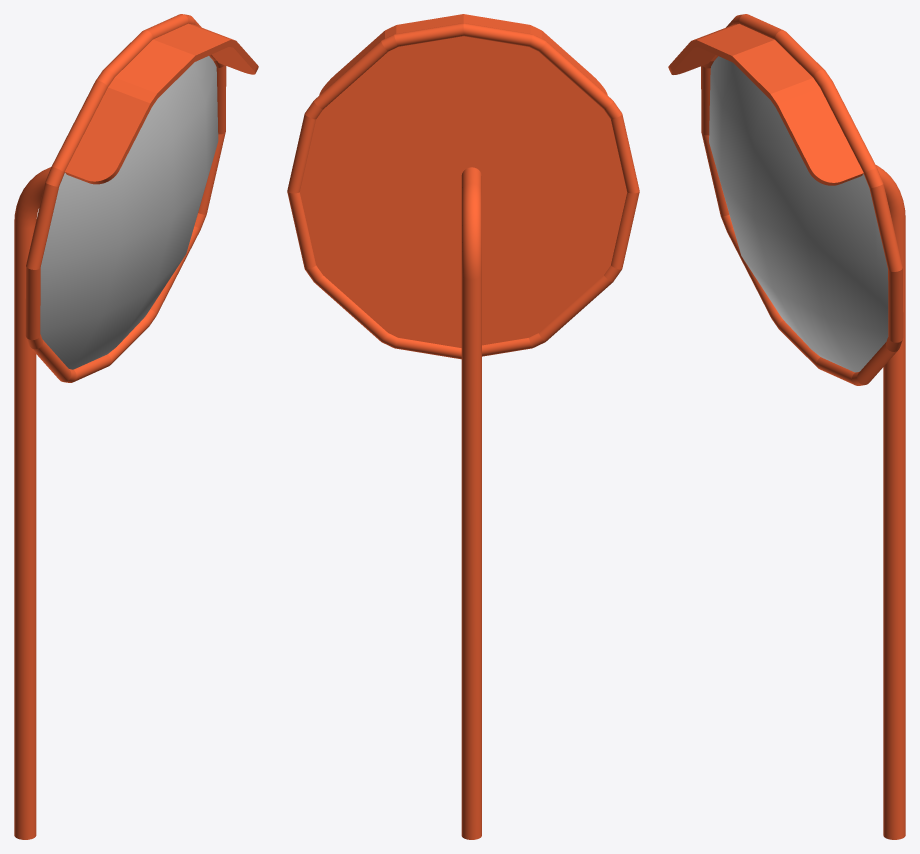
Rendered from mirror.fbx.
The picture shows the model from 3 angles, left to right: view 1: azimuth 30°, elevation 25°; view 2: azimuth 150°, elevation 25°; view 3: azimuth 270°, elevation 25°; orthographic projection. The views are drawn at different scales.
Parts seen in each view (by area): view 1: Mesh3, Model, Mesh1, Mesh2; view 2: Mesh3, Model, Mesh2, Mesh1; view 3: Mesh3, Model, Mesh1, Mesh2.
Part boxes in pixels (left/top/right/bottom): Mesh3: left=40, top=56, right=218, bottom=369; Model: left=14, top=167, right=50, bottom=839; Mesh1: left=65, top=23, right=258, bottom=184; Mesh2: left=25, top=14, right=226, bottom=382; Mesh3: left=299, top=36, right=627, bottom=347; Model: left=461, top=167, right=481, bottom=839; Mesh2: left=287, top=23, right=639, bottom=359; Mesh1: left=319, top=14, right=607, bottom=94; Mesh3: left=709, top=56, right=888, bottom=372; Model: left=876, top=165, right=905, bottom=839; Mesh1: left=668, top=23, right=863, bottom=185; Mesh2: left=701, top=14, right=903, bottom=385.
Bounding box in the file's own units: 790 × 2155 × 554.
